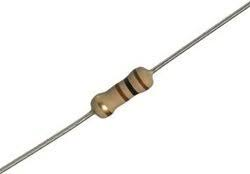resistor: (85, 55, 154, 132)
